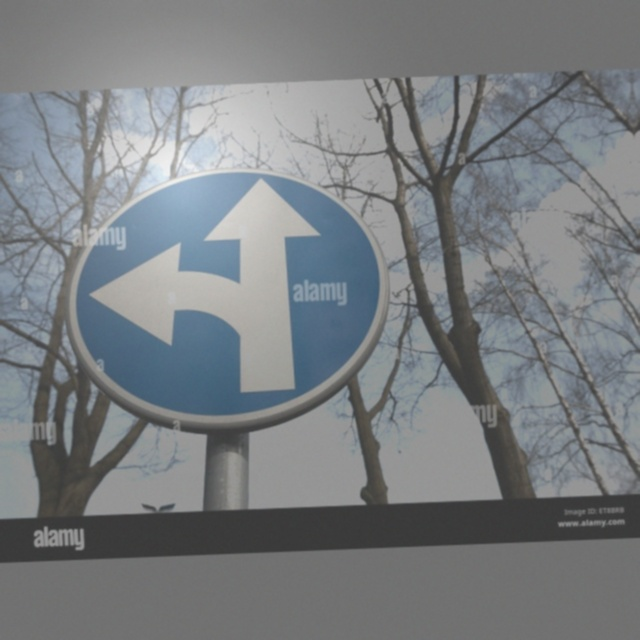Compulsory_Ahead_or_Turn_Left: (53, 157, 392, 432)
